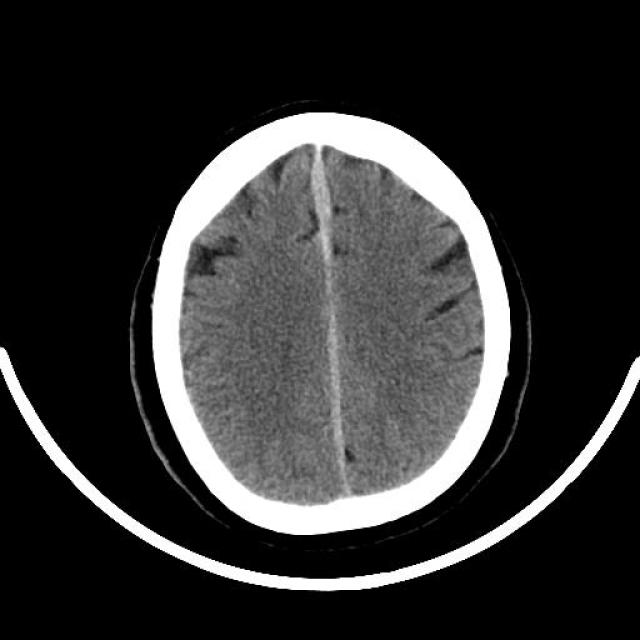Subdural: (296, 132, 386, 522)
